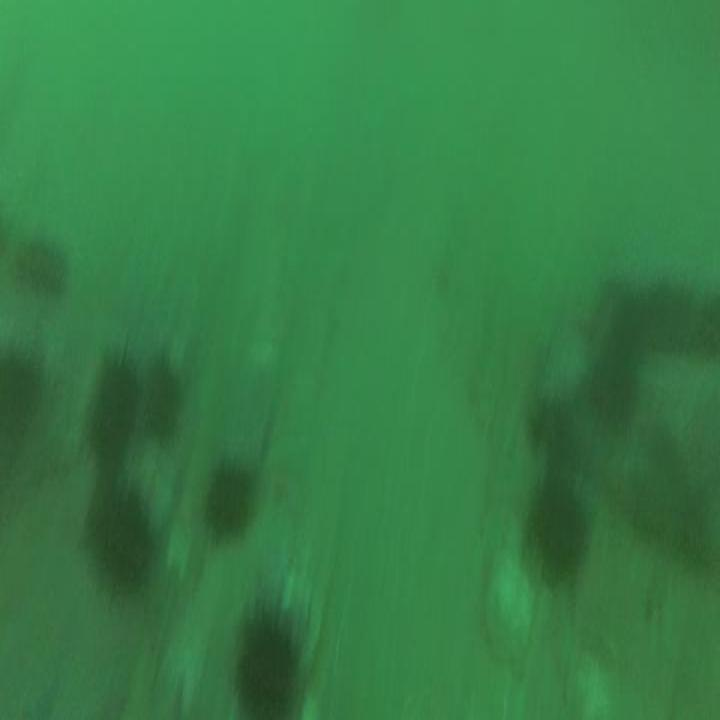echinus: (224, 583, 314, 720), (65, 475, 161, 597), (72, 334, 141, 470), (522, 459, 590, 585), (197, 454, 264, 558), (136, 334, 189, 448)
